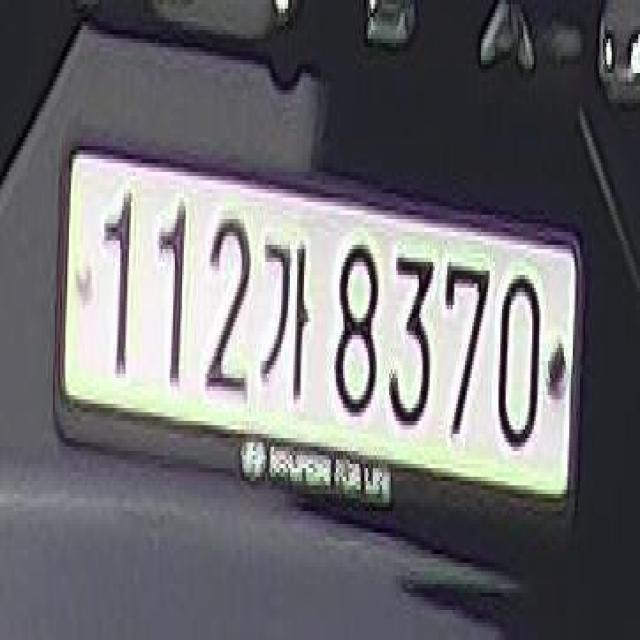illegal_plate: (53, 141, 576, 535)
